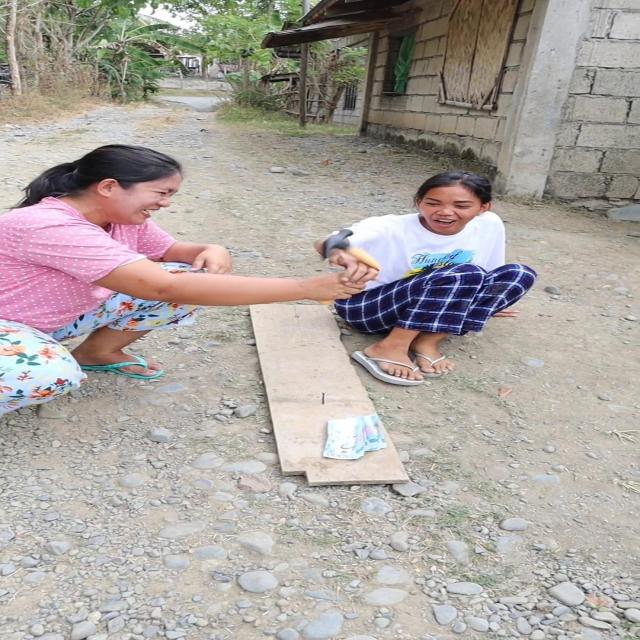hammer: (317, 228, 383, 308)
